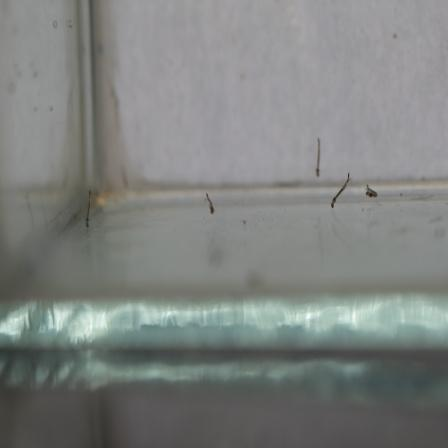Jentik-Nyamuk: (329, 170, 352, 212), (79, 187, 96, 233), (310, 133, 325, 181), (200, 186, 218, 220), (362, 178, 381, 201)
